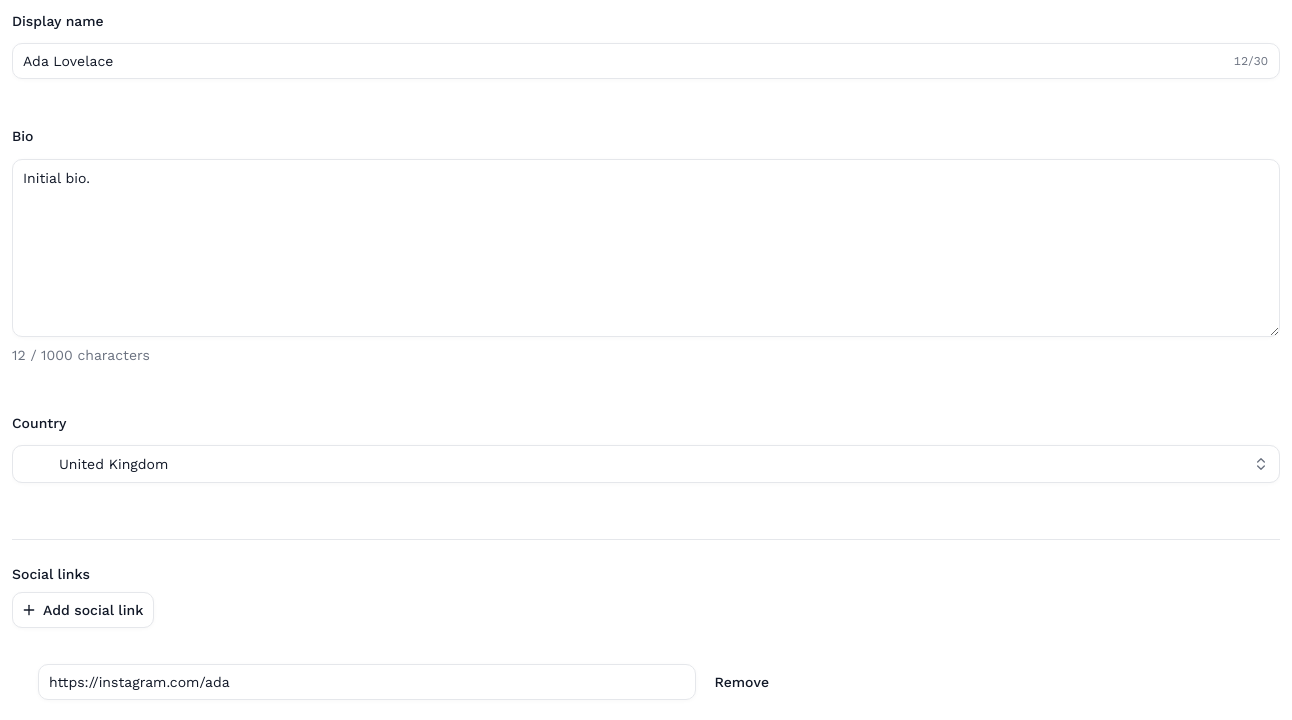
Test: ProfileIdentityForm › keeps selected social links compact while retaining names in the add menu
(page scrolled)
Step 1. Click the button "Add social link" → (83, 610), box left=12, top=592, right=154, bottom=628
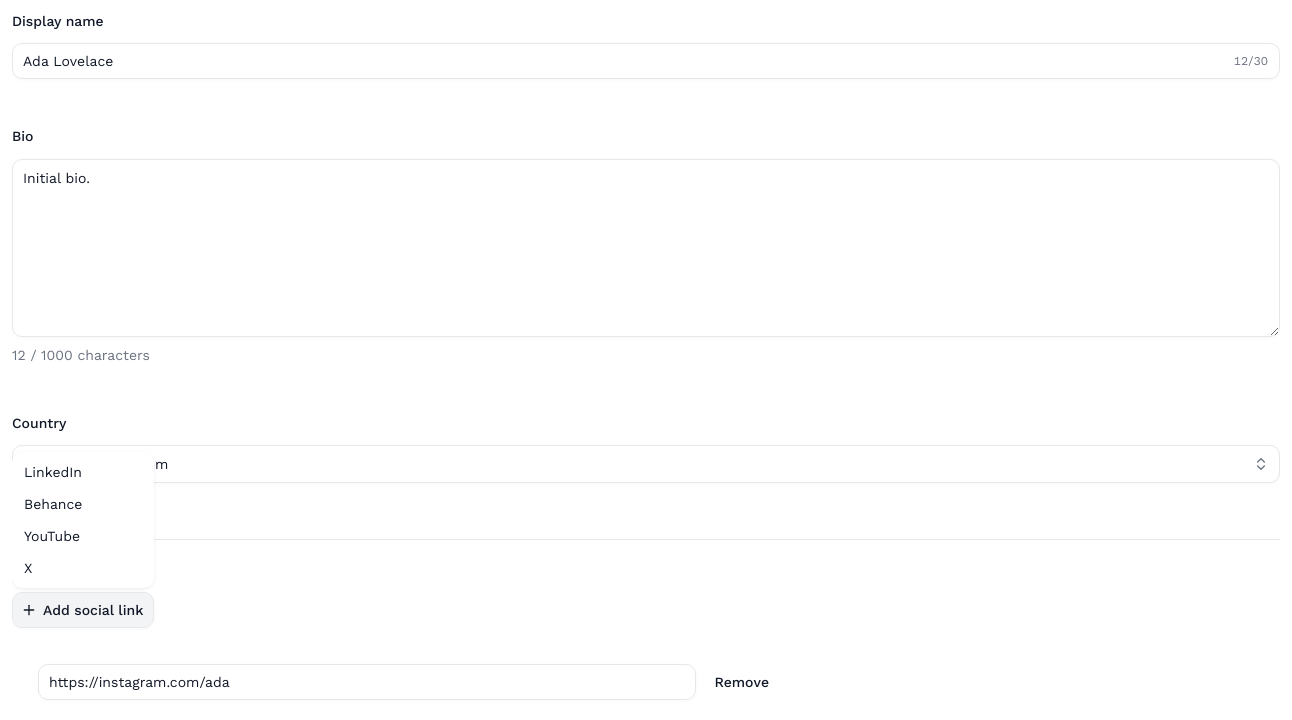
Check: the menu item "LinkedIn" is shown, box left=24, top=464, right=82, bottom=480
